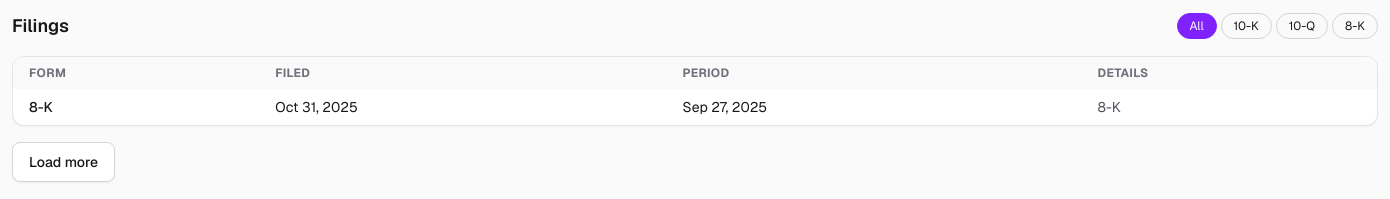
Test: FilingsList › filters by form and loads more pages
Click the button "10-K" at (1246, 26), box x1=1221 y1=13 x2=1272 y2=39
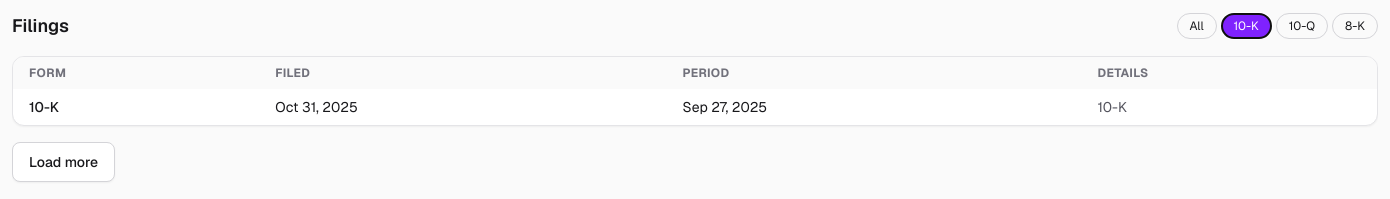
Expected: the link "10-K" is shown, x1=29 y1=98 x2=59 y2=116
Click the button "Load more" at (64, 162), box x1=12 y1=142 x2=115 y2=182
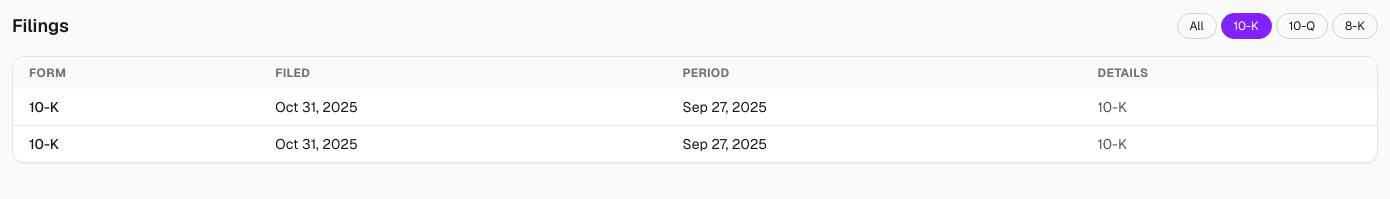
Expected: the number of links "10-K" is 2, x1=29 y1=98 x2=59 y2=116; x1=29 y1=135 x2=59 y2=153
